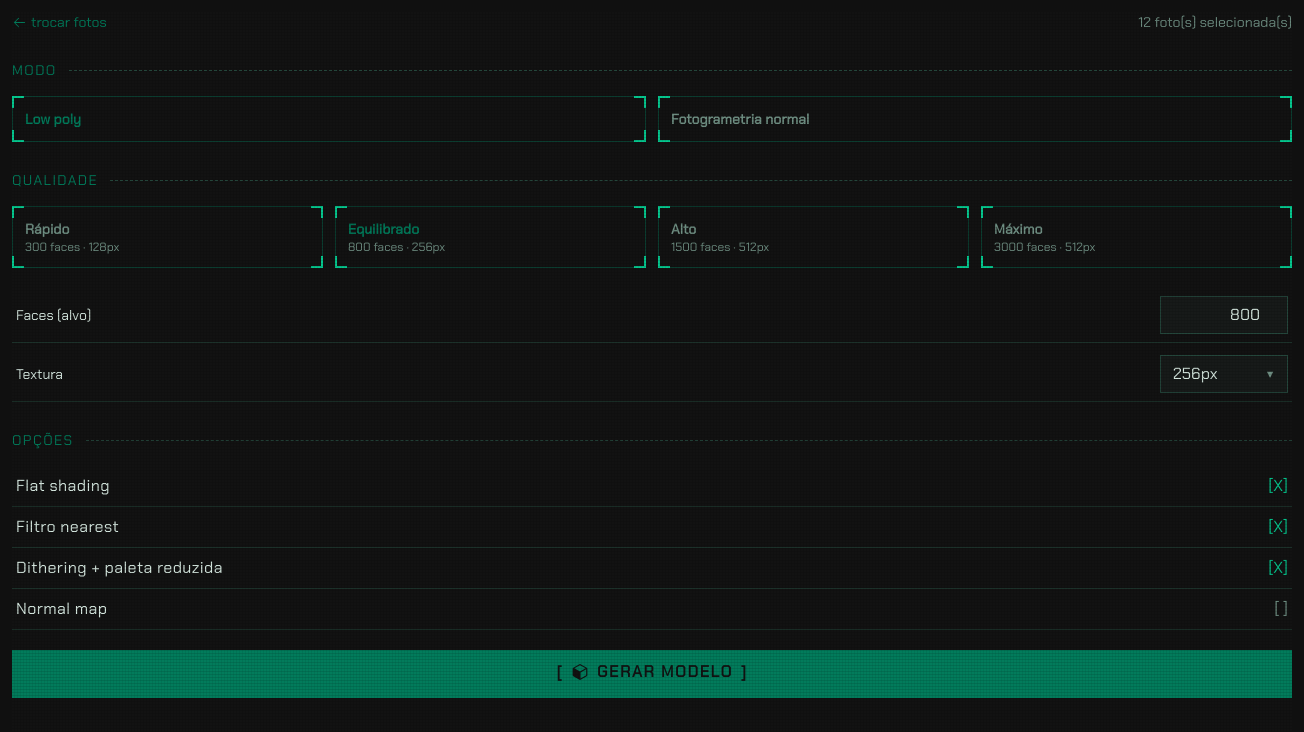
Test: troca para fotogrametria normal com presets maiores
Click the button "Fotogrametria normal" at x=975, y=119, box x1=658 y1=96 x2=1292 y2=142
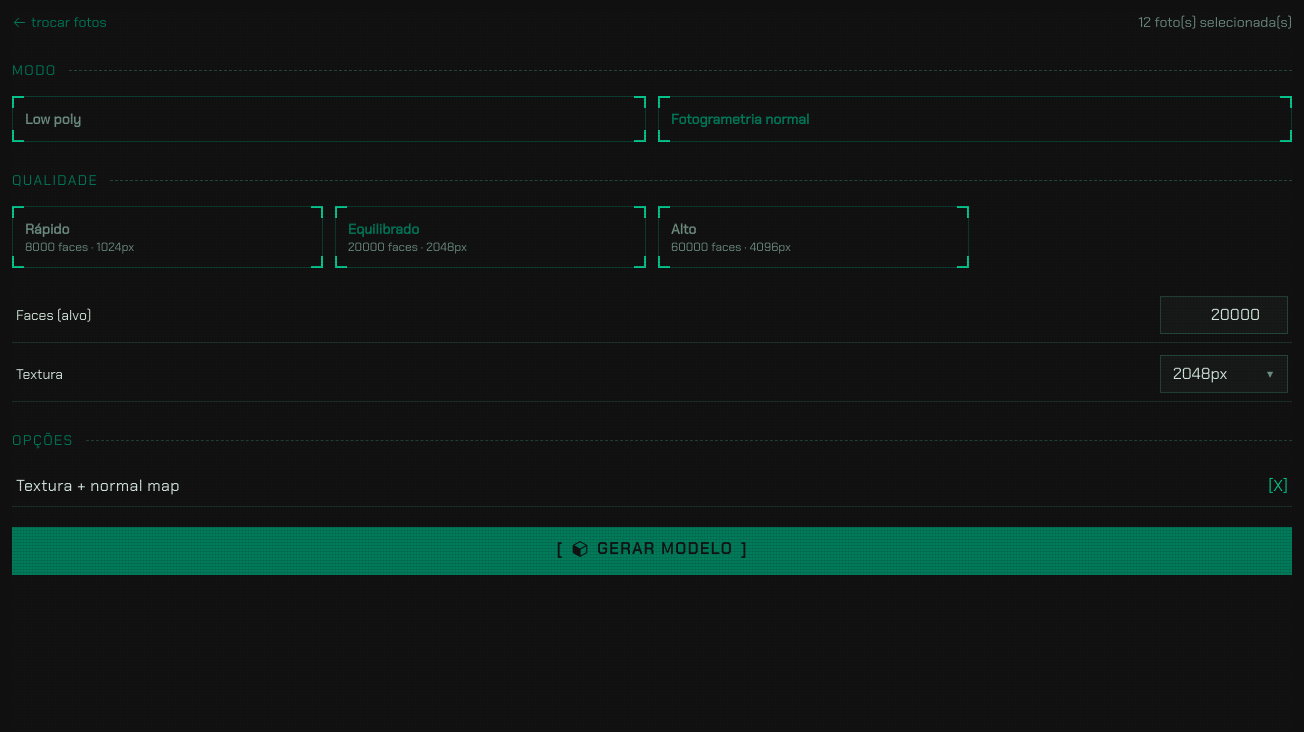
Expected: the number field labelled "Faces (alvo)" holds "20000", x1=1160 y1=296 x2=1288 y2=334
Expected: the button with aria-label "resolução da textura" shows "2048px", x1=1160 y1=355 x2=1288 y2=393
